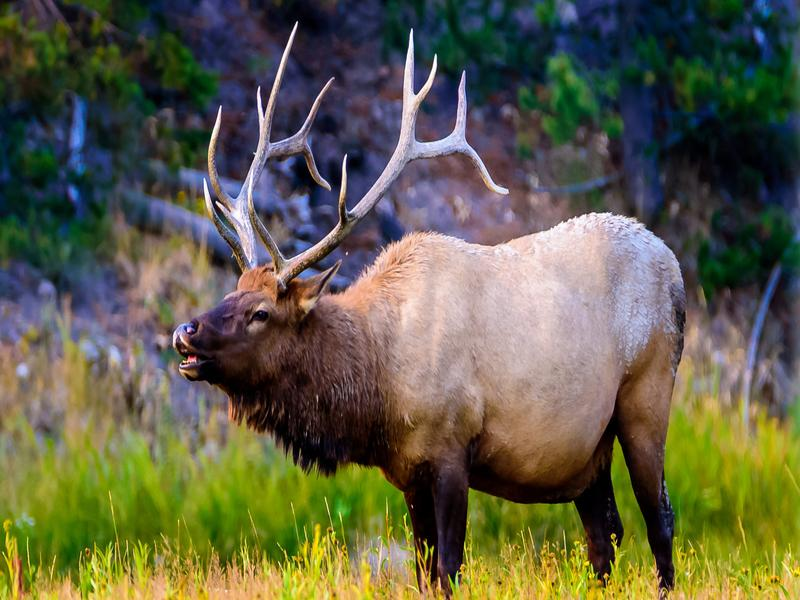elk: (171, 98, 689, 600)
